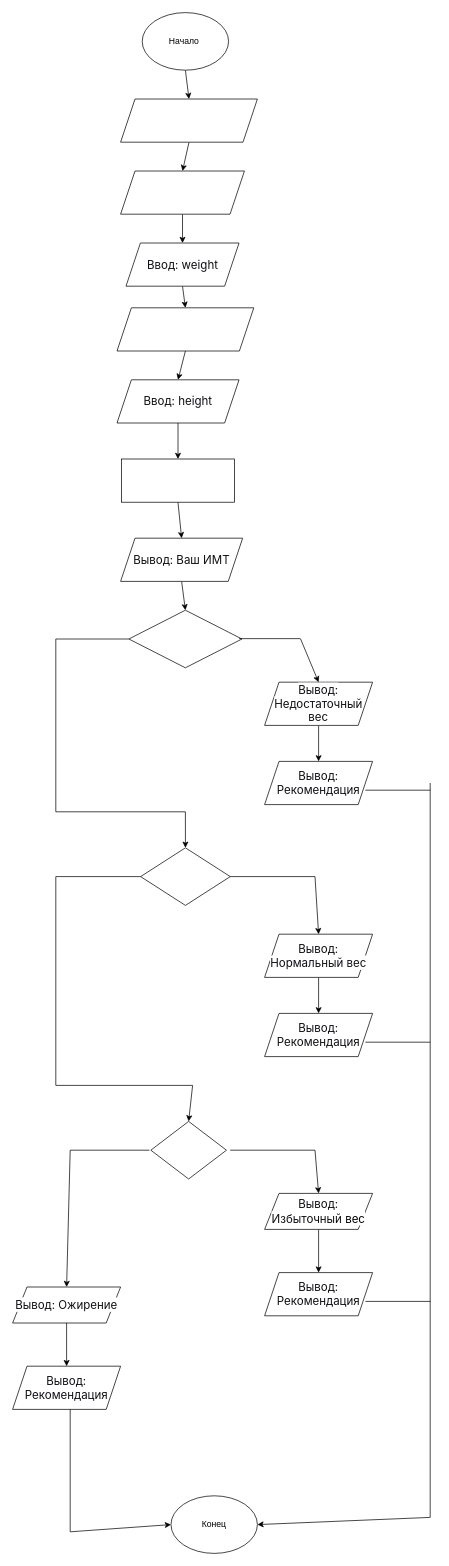
Image size: 449x1566. Some labels were removed from this diagram. Each missing label, with the centre of its shape:
"bmi <= 18.5?" goes at [185,638].
"bmi <= 24.9?" goes at [185,876].
"bmi <= 29.9?" goes at [188,1150].
"bmi = weight / (height * height)" goes at [178,480].
"Вывод: Введите ваши данные ниже:" goes at [188,120].
"Вывод: Введите вес (кг):" goes at [182,192].
"Вывод: Введите рост (м...):" goes at [185,329].
